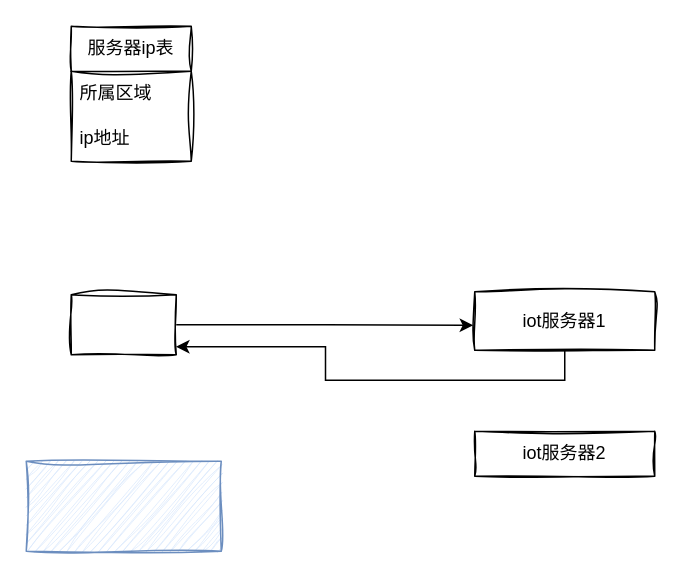
Some shapes in this 681 by 578 pixel diagram are drawn without their labels. Each missing label, with the centre of its shape:
监控应用: pixel 123 324
缓存 存放存活iot应用信息 key为所属区域 value为对应ip: pixel 123 505
